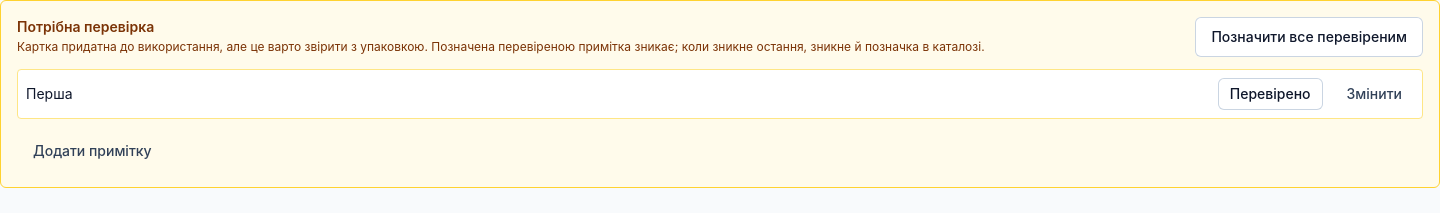
it: ReviewNotesPanel › cancelling an edit changes nothing
The width and height of the screenshot is (1440, 213).
Step 1. Click the button with aria-label "Змінити: Перша" → {"x": 1374, "y": 94}, box [1335,78,1414,110]
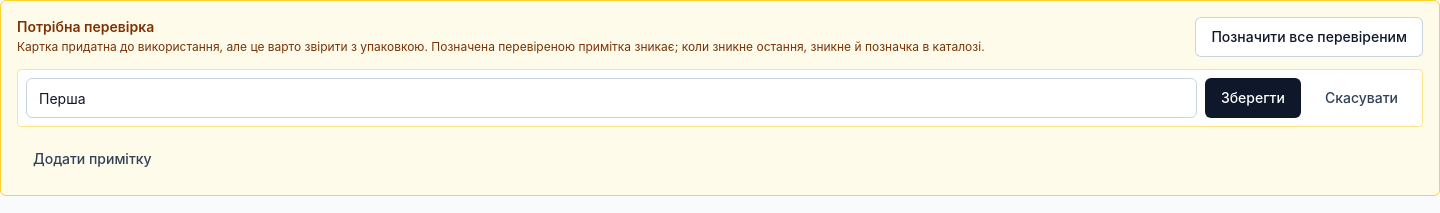
Step 2. Click the button "Скасувати" → {"x": 1361, "y": 98}, box [1309,78,1414,118]
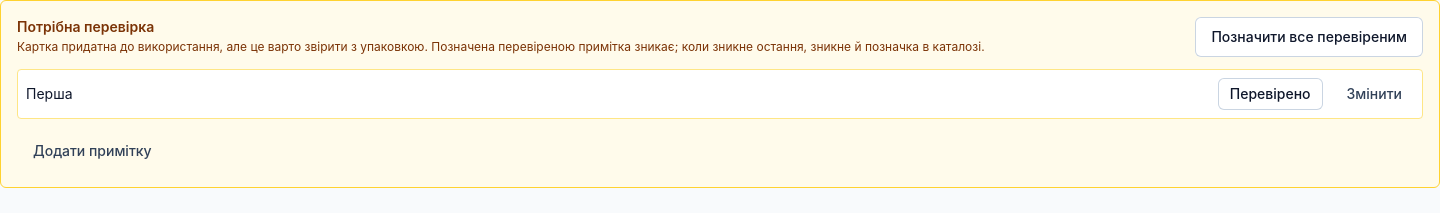
Expected: the text "Перша" is shown, [26,85,72,102]
